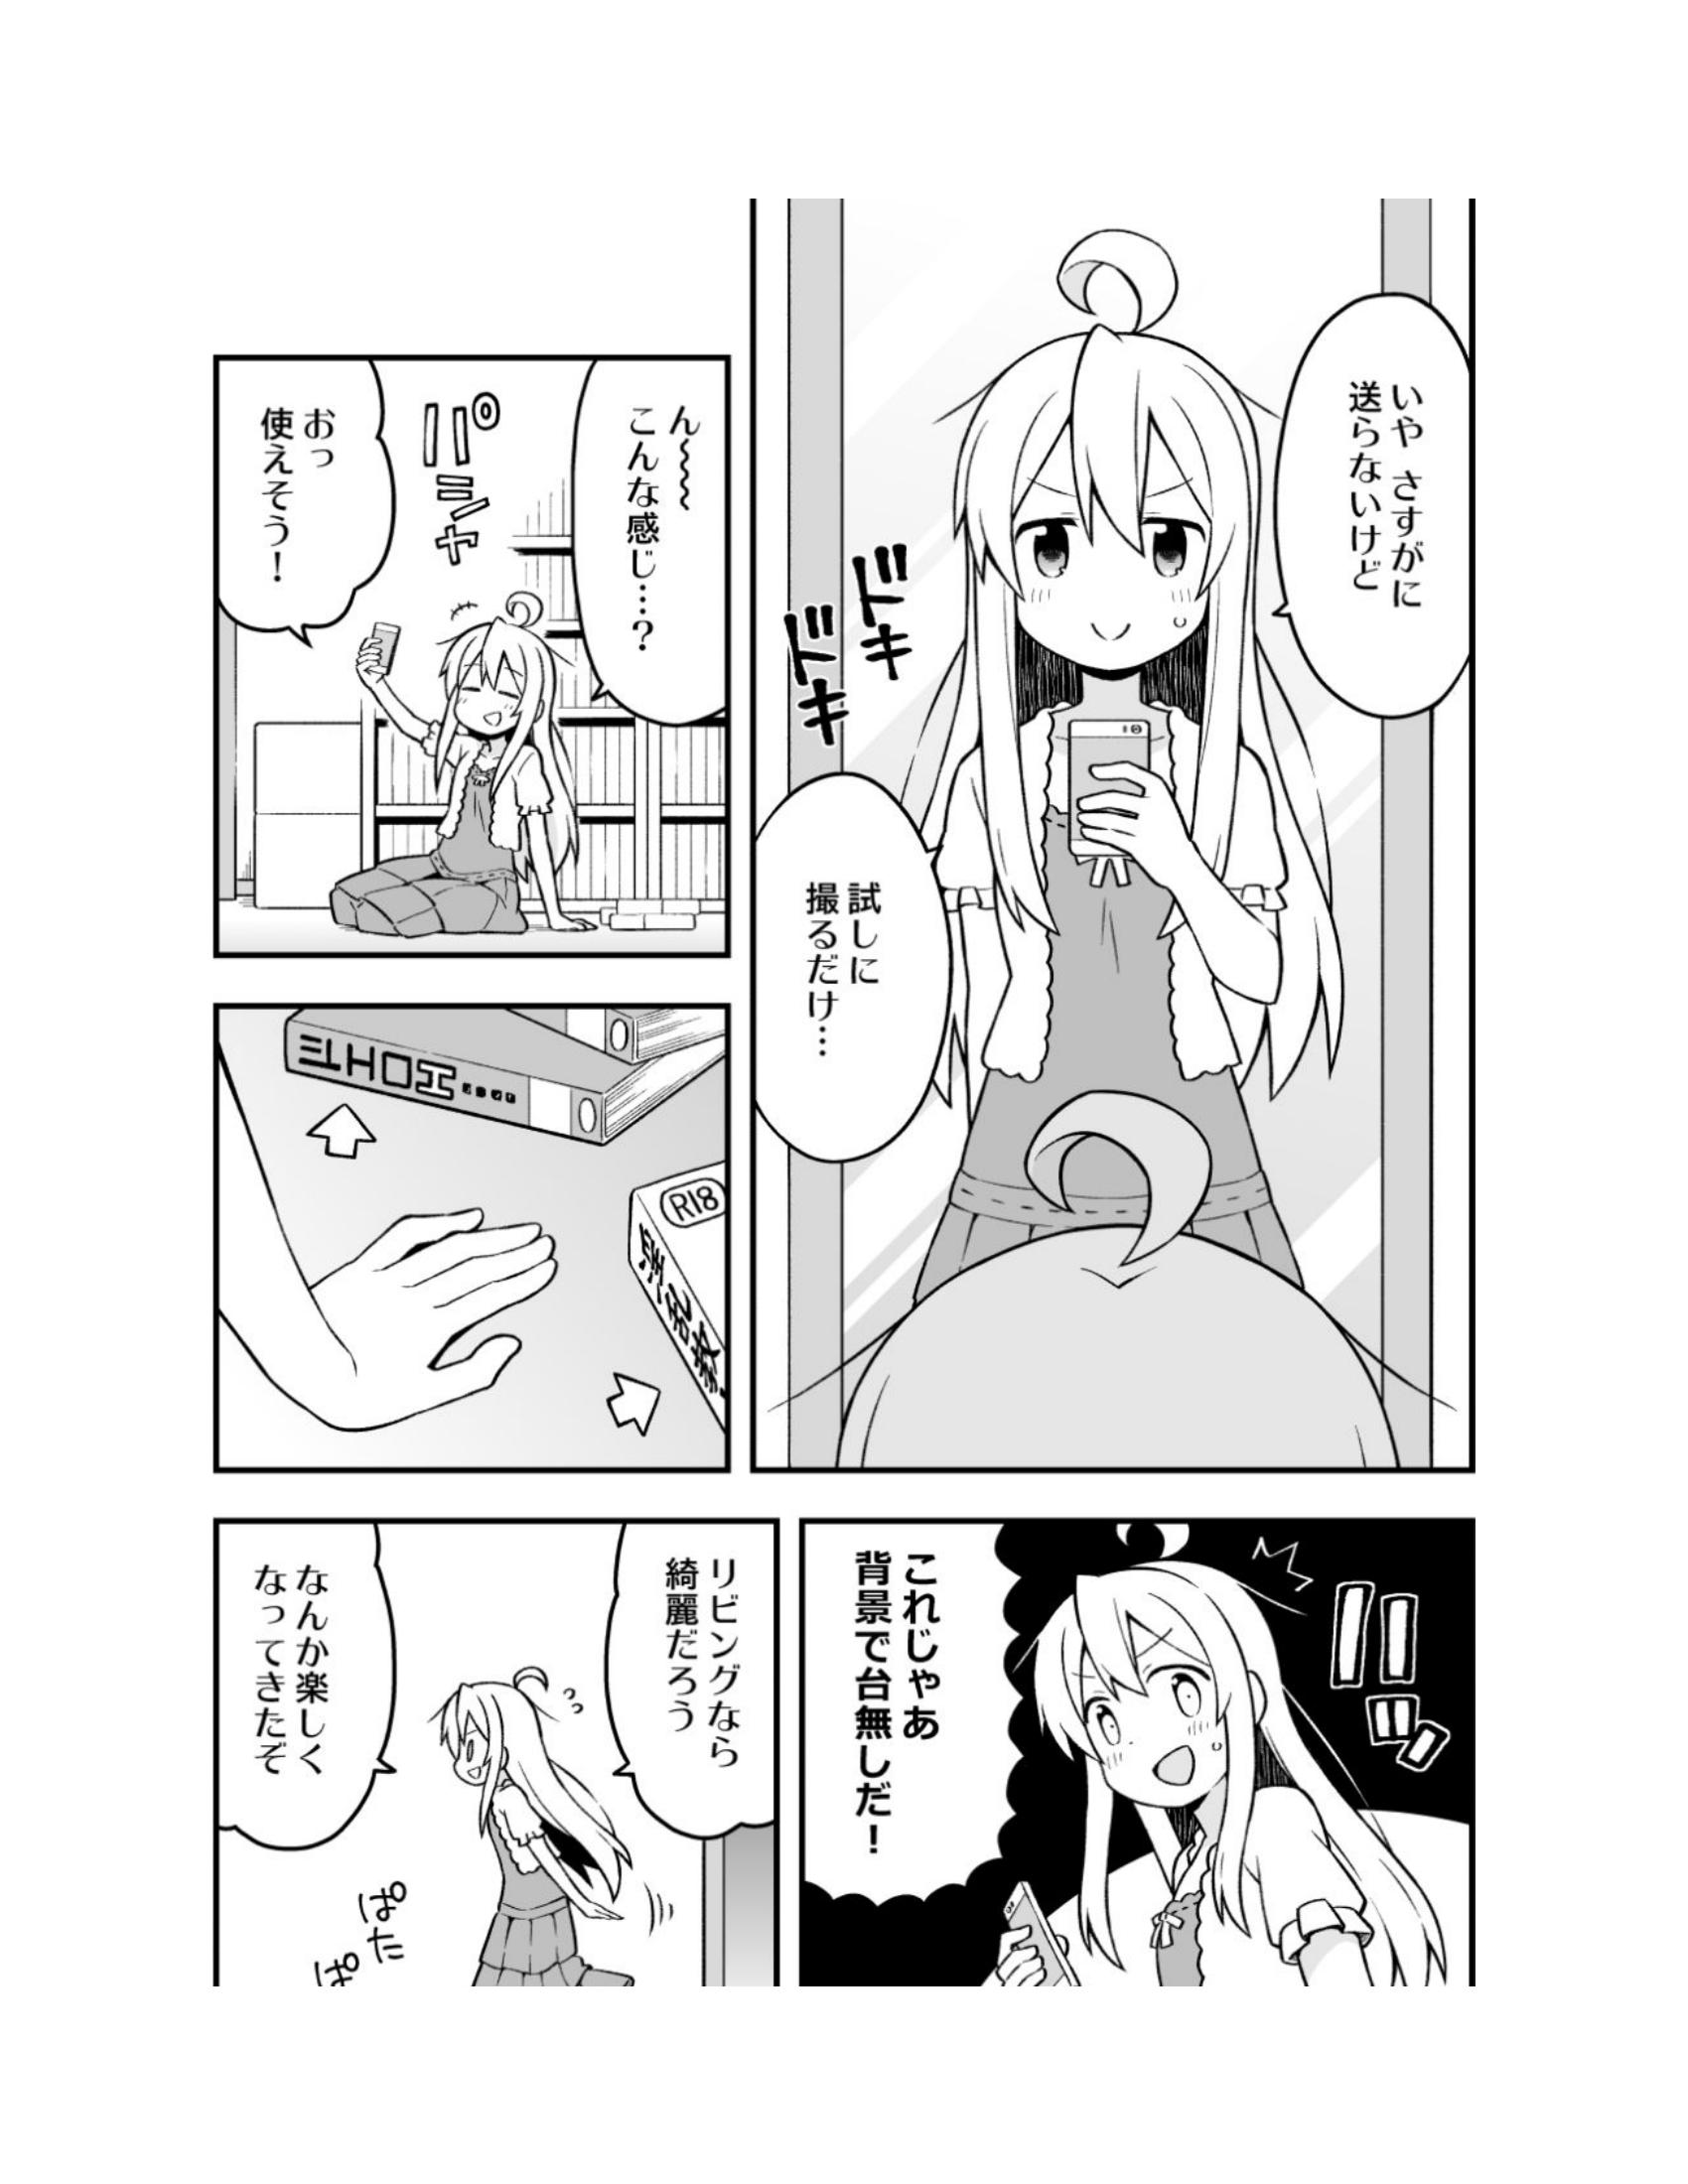a: (1275, 303, 1486, 720), (759, 761, 965, 1181), (215, 1517, 418, 1884), (553, 344, 746, 723), (816, 1514, 1005, 1899), (608, 1540, 793, 1858), (223, 333, 410, 633)
